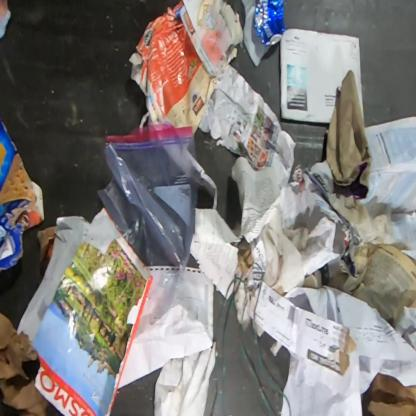cardboard: (127, 0, 244, 137), (254, 280, 358, 378), (0, 115, 46, 277)
metal: (253, 0, 286, 48)
soft_plastic: (96, 123, 199, 326)
